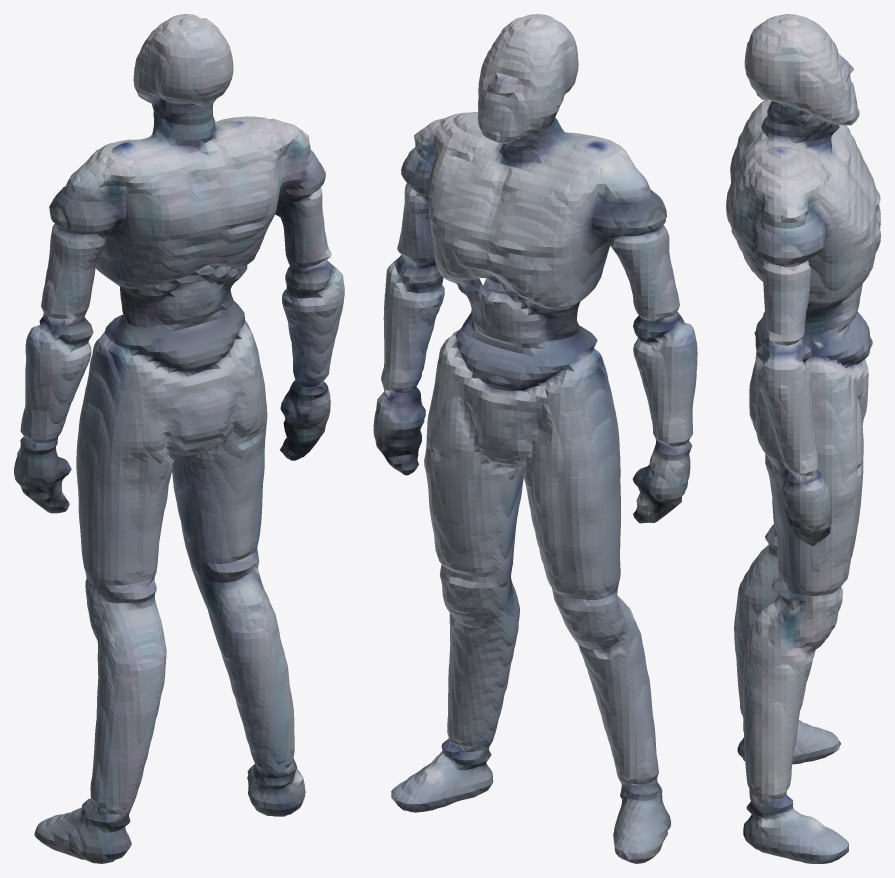
3 renders of one model, left to right at view 1: azimuth 30°, elevation 25°; view 2: azimuth 150°, elevation 25°; view 3: azimuth 270°, elevation 25°, orthographic.
Visible parts, largest first — view 1: world; view 2: world; view 3: world.
Boxes of the visible parts, x1,y1,x2,y2 form: world: (14,14,344,863); world: (373,14,697,863); world: (726,14,880,863).
Size of the model in its own units: 0.3787 by 0.9386 by 0.1659.
